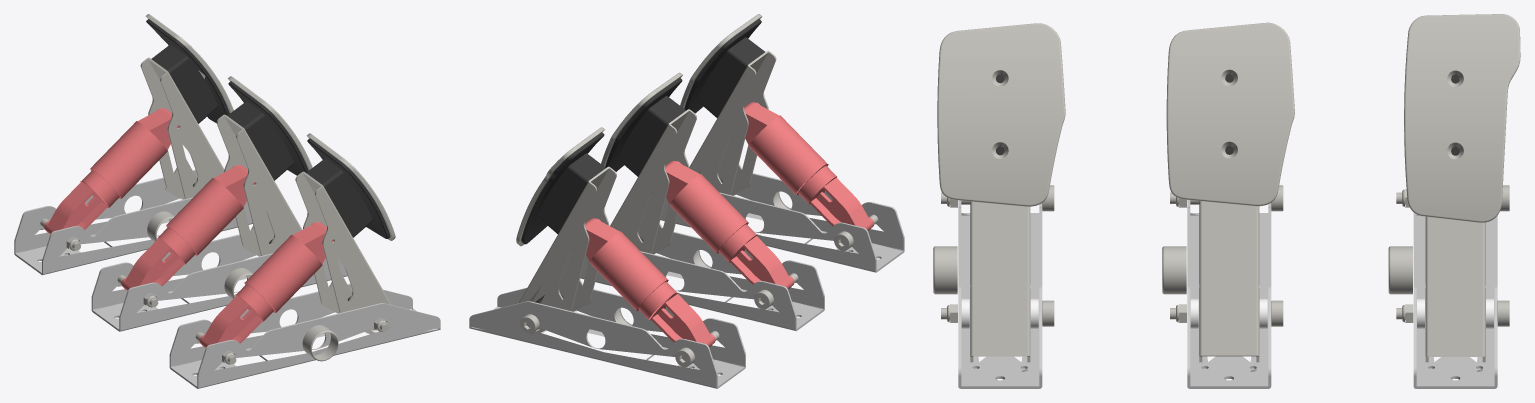
The model's file is pedalsMain.fbx.
3 renders of one model, left to right at view 1: azimuth 30°, elevation 25°; view 2: azimuth 150°, elevation 25°; view 3: azimuth 270°, elevation 25°, orthographic. The views are drawn at different scales.
Visible parts, largest first — view 1: extrude#; view 2: extrude#; view 3: extrude#.
Part boxes in pixels (box(x1,y1,x2,y2)): extrude#: box(14, 14, 440, 388); extrude#: box(469, 14, 904, 388); extrude#: box(933, 14, 1520, 388).
Bounding box in the file's own units: 20.5 × 16.55 × 29.36.
